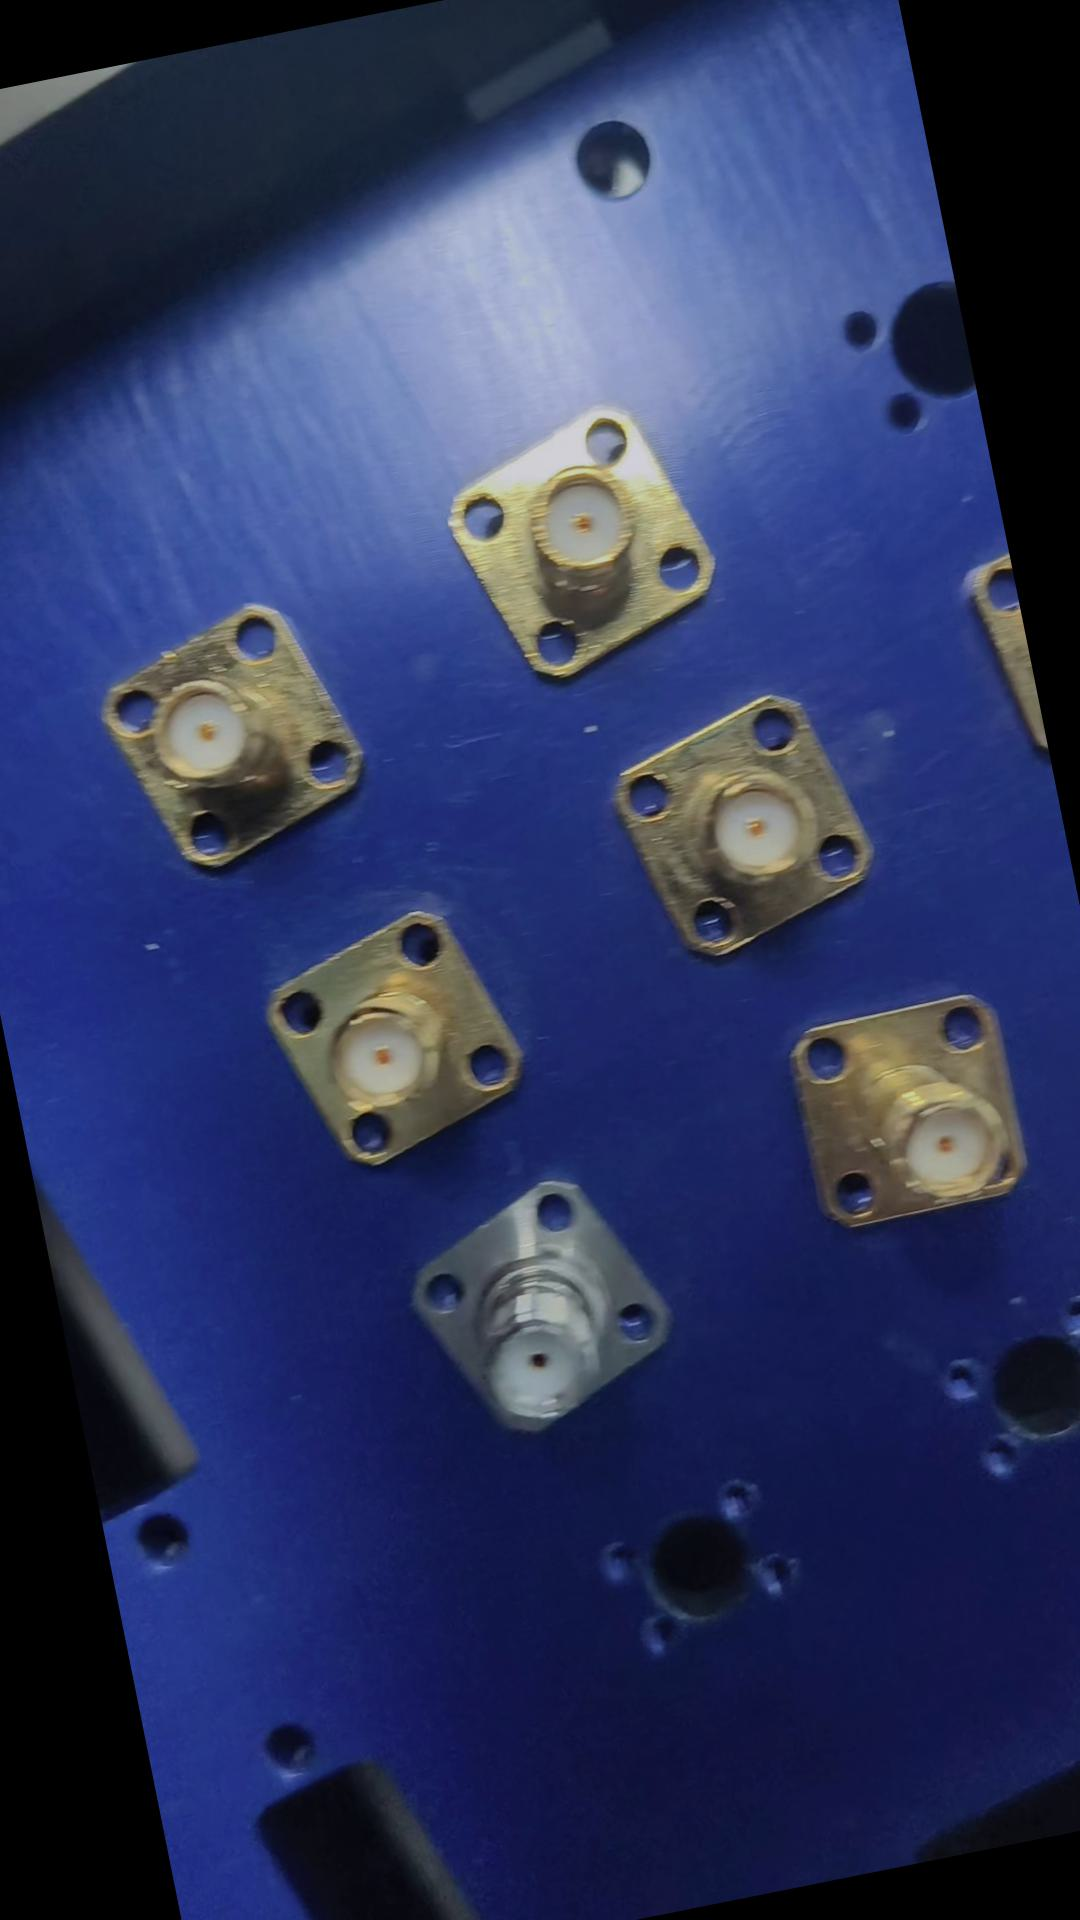SMA: (426, 386, 737, 698), (78, 583, 381, 885), (397, 1160, 696, 1457), (603, 680, 893, 976), (258, 894, 547, 1182), (782, 980, 1043, 1241)
